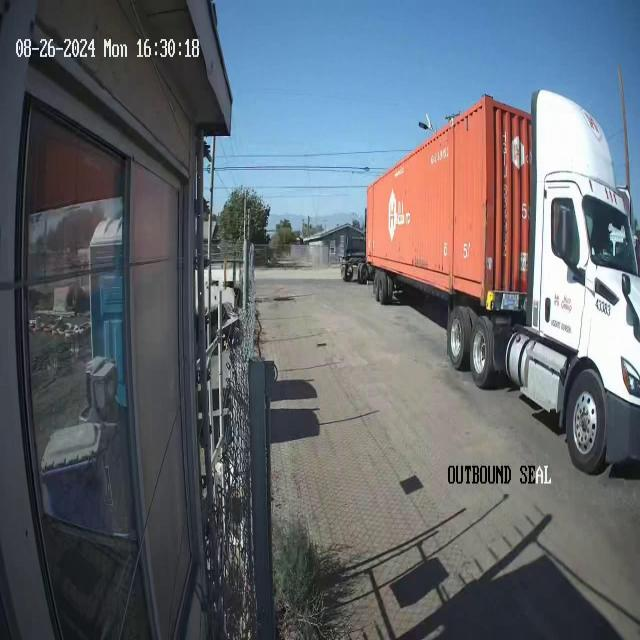TRUCK_CONTAINER: (365, 82, 639, 474)
